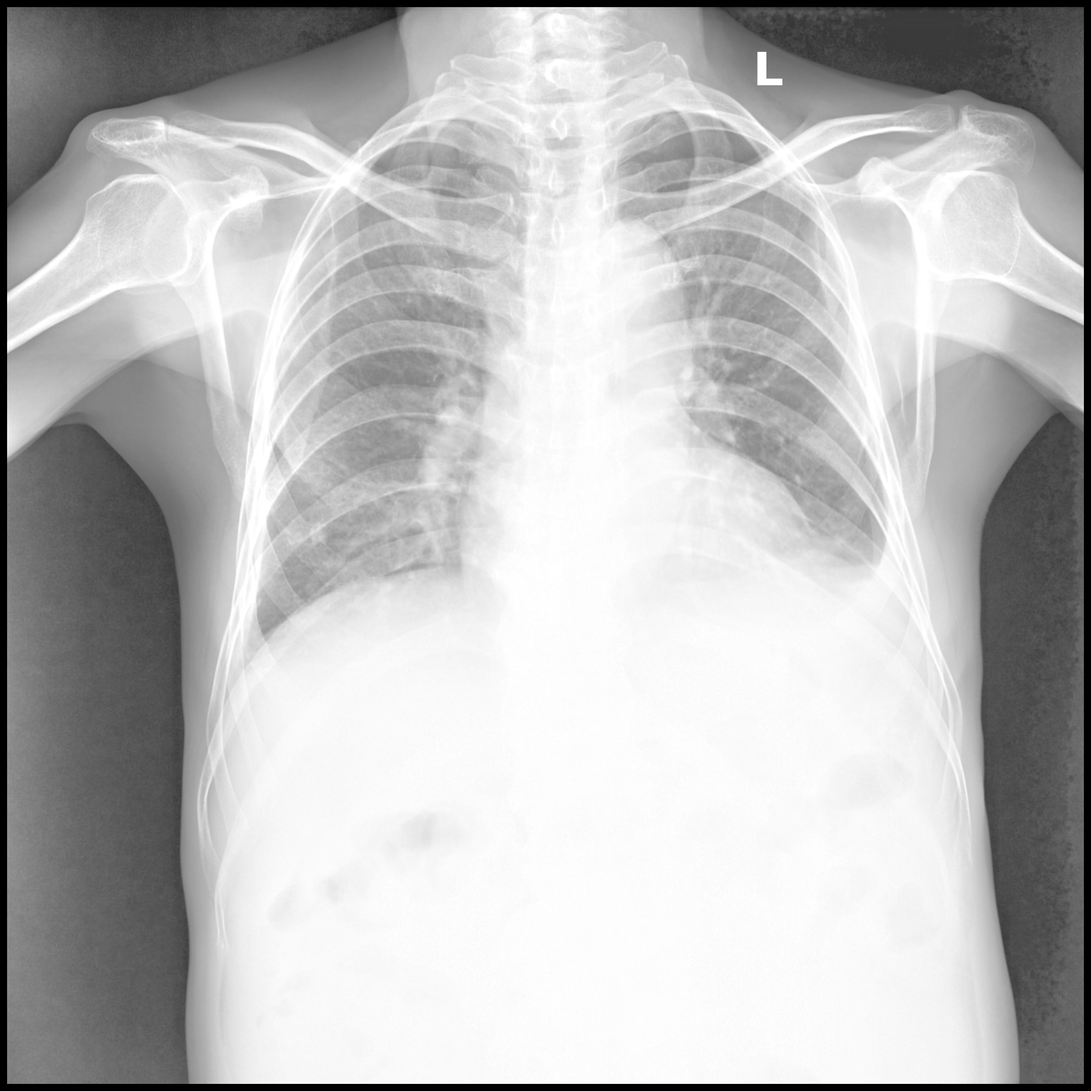Aortic enlargement: (581, 222, 685, 319)
Pulmonary fibrosis: (307, 523, 328, 541)
